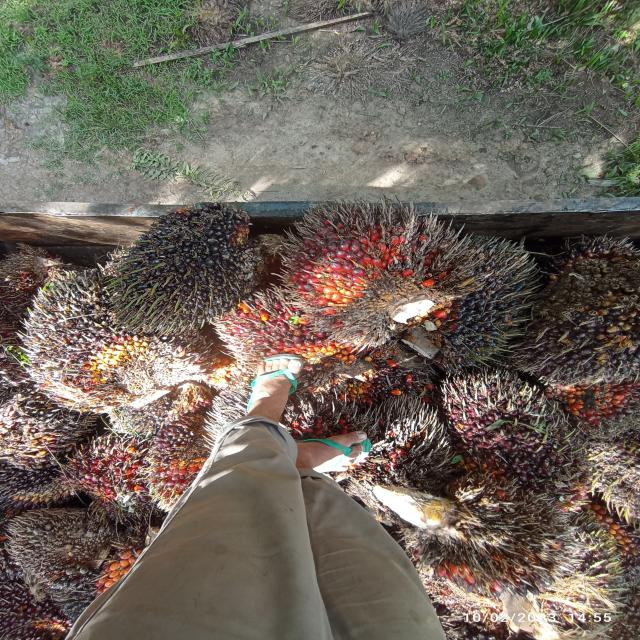fraksi 00: (0, 262, 198, 401), (102, 201, 258, 337), (426, 225, 547, 378), (521, 234, 640, 386)
fraksi 1: (435, 366, 601, 490)
fraksi 3: (260, 196, 491, 344)
